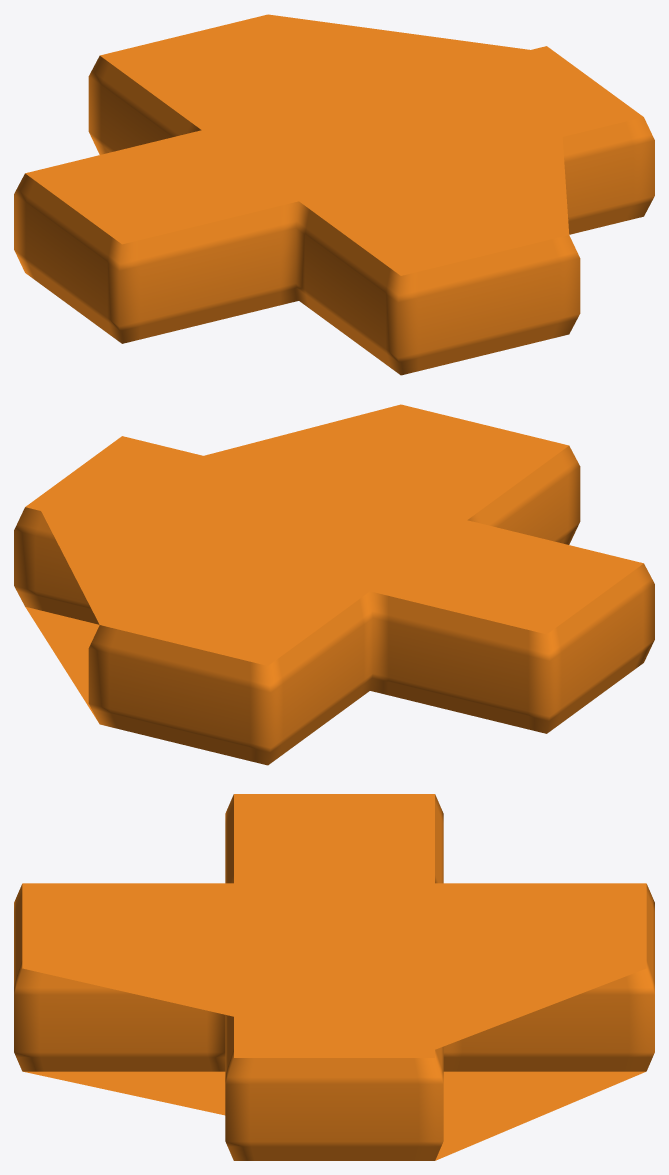
The model's file is sign_plus.fbx.
3 views of the same model, one above another, from view 1: azimuth 30°, elevation 25°; view 2: azimuth 150°, elevation 25°; view 3: azimuth 270°, elevation 25° (orthographic). The views are drawn at different scales.
Visible parts, largest first — view 1: polySurface23; view 2: polySurface23; view 3: polySurface23.
Boxes of the visible parts, <box> form: polySurface23: <box>14,14,654,375</box>; polySurface23: <box>14,404,654,765</box>; polySurface23: <box>14,794,654,1160</box>.
Bounding box in the file's own units: 0.6017 × 0.1068 × 0.6017.
Materials: 1 (1 with a texture image).
